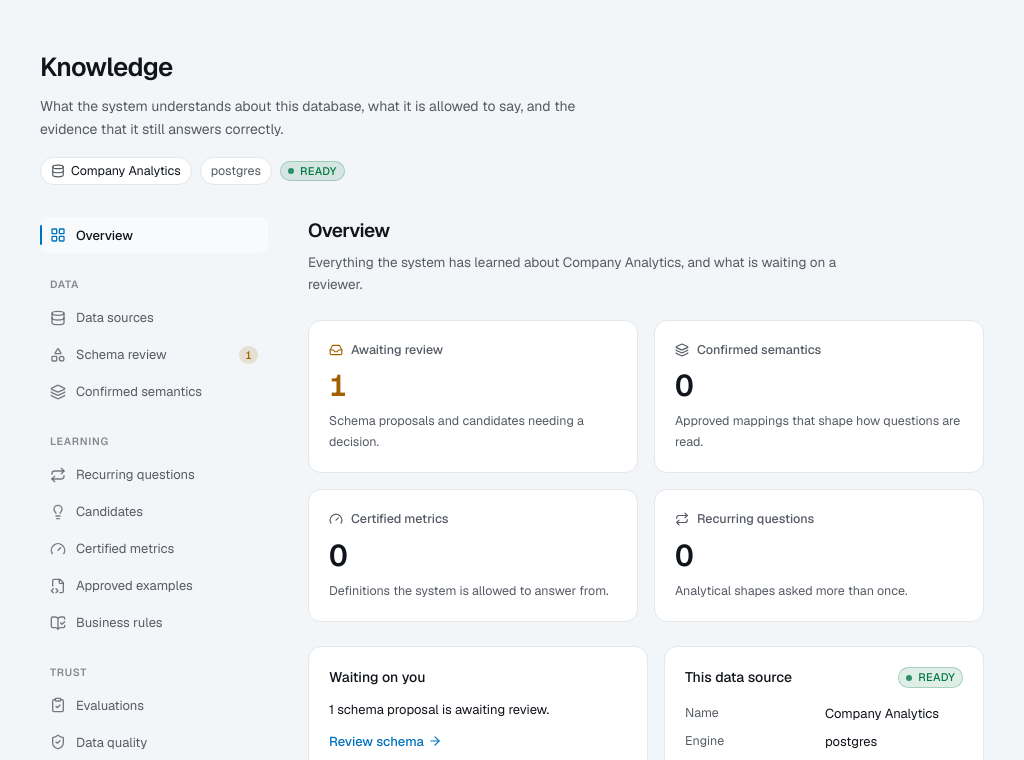
Test case: Schema review › marks the canonical key and explains what one is
The width and height of the screenshot is (1024, 760).
Step 1. Click the tab "Schema review 1" → (154, 355), box [40,337,268,373]
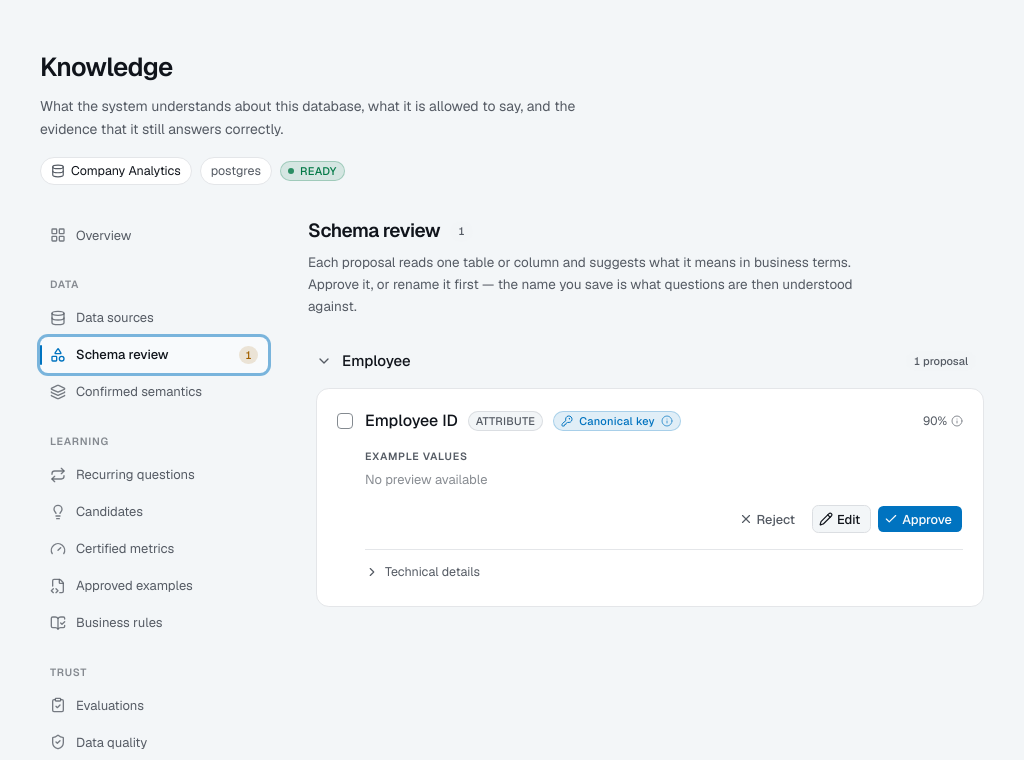
Result: the text "Canonical key" is shown at [553,411,681,431]
Result: the button named "What a canonical key is" is shown at [661,415,673,427]
